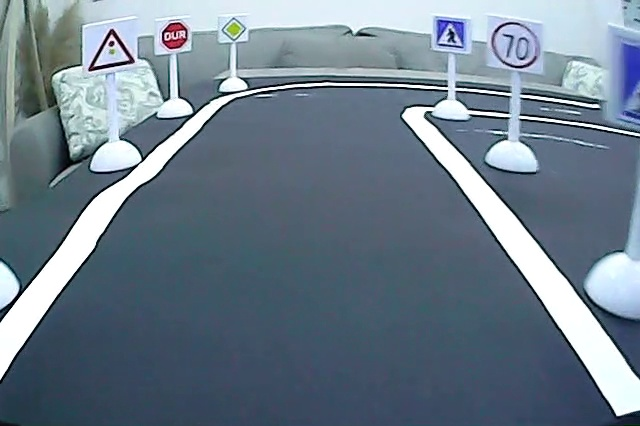pedestrian crossing: (435, 18, 468, 53)
red light: (84, 26, 138, 73)
speed limit 70: (489, 18, 543, 70)
stop sign: (159, 19, 191, 53)
